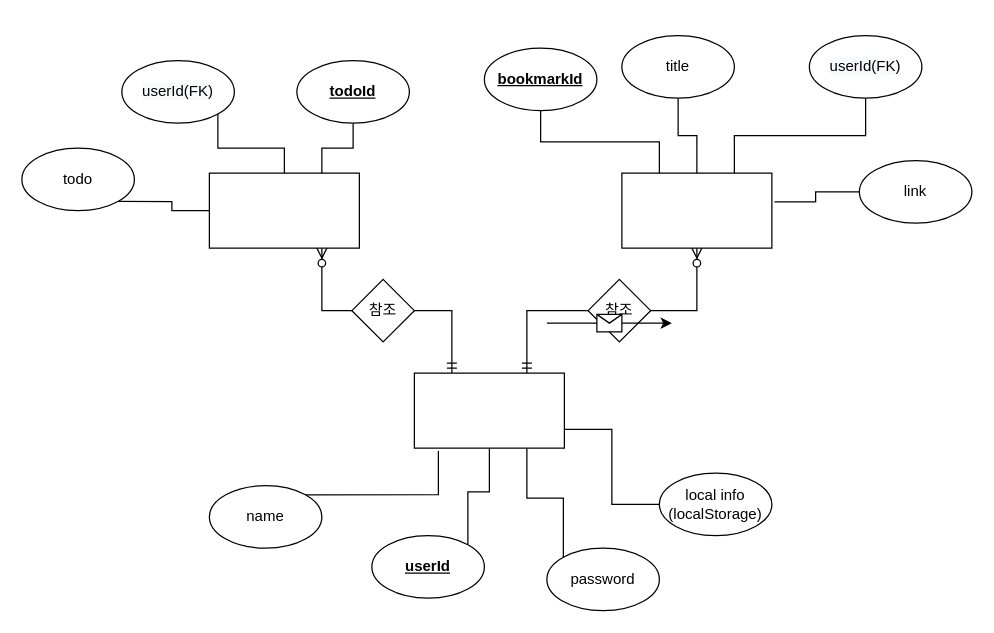
The diagram is 994 pixels wide and 633 high, and some of its shapes have lost their labels. The shapes that lost their labels are listed below. From the top down, each one's box as (x1, y1, x2, y2) in pixels, then its label:
(208, 172, 359, 248): todolist
(621, 172, 772, 248): bookmark
(413, 372, 564, 448): user
